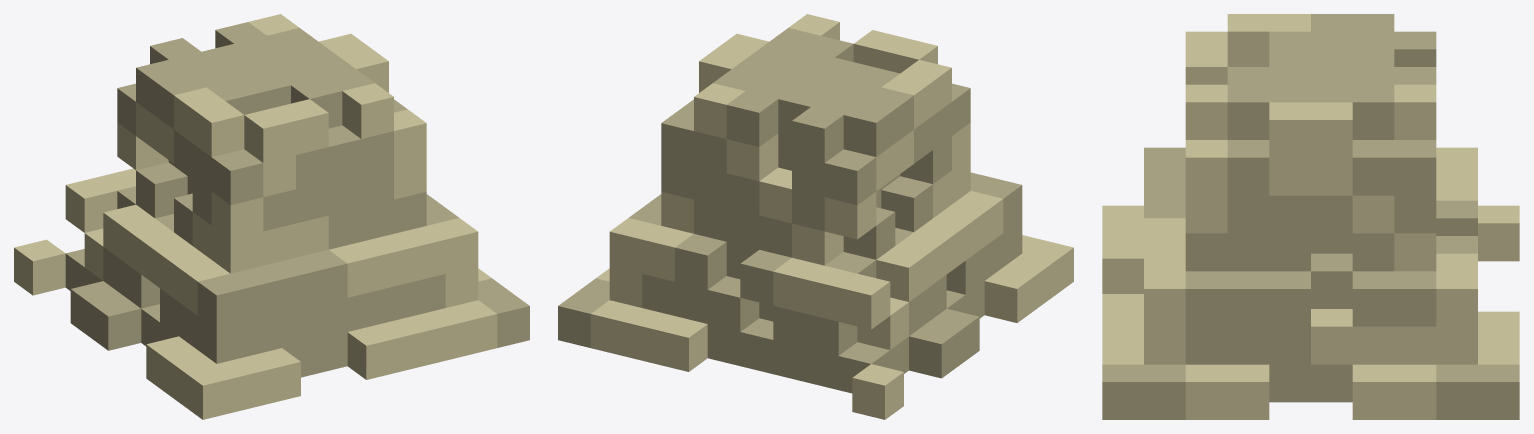
The model's file is Medieval Assets-111-Decoration - Desert - Pillar - Base Worn.obj.
The picture shows the model from 3 angles, left to right: view 1: azimuth 30°, elevation 25°; view 2: azimuth 150°, elevation 25°; view 3: azimuth 270°, elevation 25°; orthographic projection. The views are drawn at different scales.
Parts seen in each view (by area): view 1: Decoration - Desert - Pillar - Base Worn; view 2: Decoration - Desert - Pillar - Base Worn; view 3: Decoration - Desert - Pillar - Base Worn.
Part boxes in pixels (x1=…): Decoration - Desert - Pillar - Base Worn: x1=14, y1=14, x2=529, y2=419; Decoration - Desert - Pillar - Base Worn: x1=558, y1=14, x2=1073, y2=419; Decoration - Desert - Pillar - Base Worn: x1=1102, y1=14, x2=1519, y2=419.
Size of the model in its own units: 1 by 0.7 by 1.
1 material, 1 textured.
